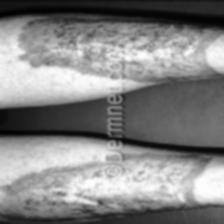Unclassified: (125, 25, 220, 72), (134, 160, 198, 206), (22, 26, 80, 64)
